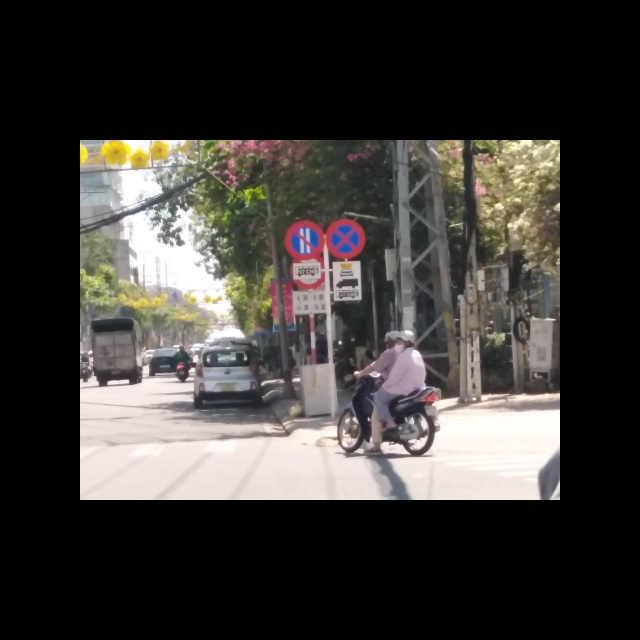Cấm dừng xe và đỗ xe: (325, 218, 366, 261)
Cấm đỗ xe ngày chẵn: (284, 220, 325, 259)
